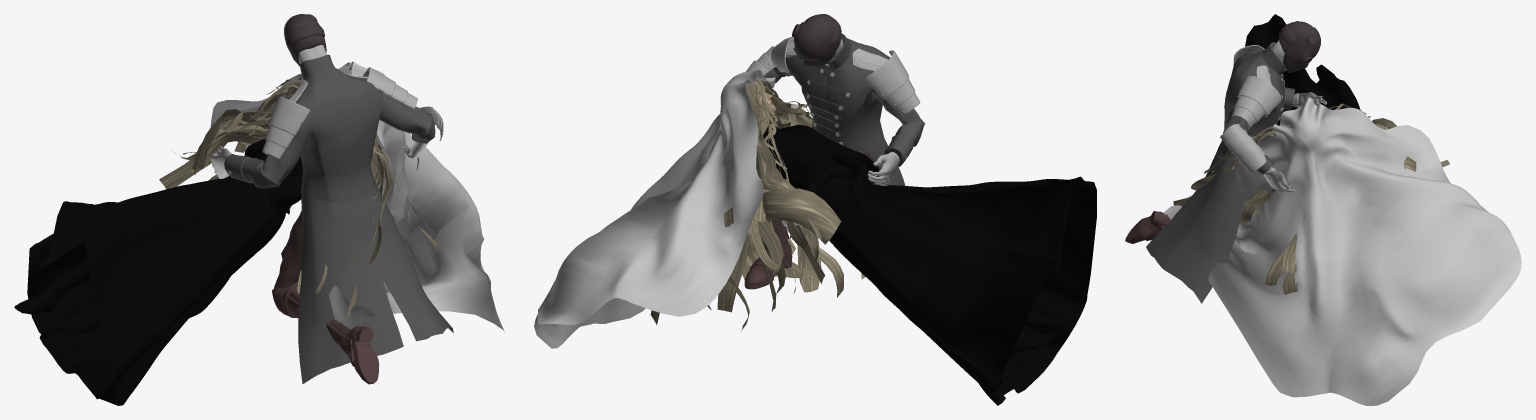
File: Shot_5.fbx
The picture shows the model from 3 angles, left to right: view 1: azimuth 30°, elevation 25°; view 2: azimuth 150°, elevation 25°; view 3: azimuth 270°, elevation 25°; orthographic projection. The views are drawn at different scales.
Visible parts, largest first — view 1: NPC_5, Player_5; view 2: NPC_5, Player_5; view 3: NPC_5, Player_5.
Boxes of the visible parts, x1,y1,x2,y2 form: NPC_5: [14, 61, 504, 405]; Player_5: [210, 14, 453, 384]; NPC_5: [534, 69, 1096, 405]; Player_5: [743, 14, 925, 289]; NPC_5: [1164, 14, 1521, 405]; Player_5: [1125, 21, 1326, 303].
Size of the model in its own units: 235 by 166 by 201.
